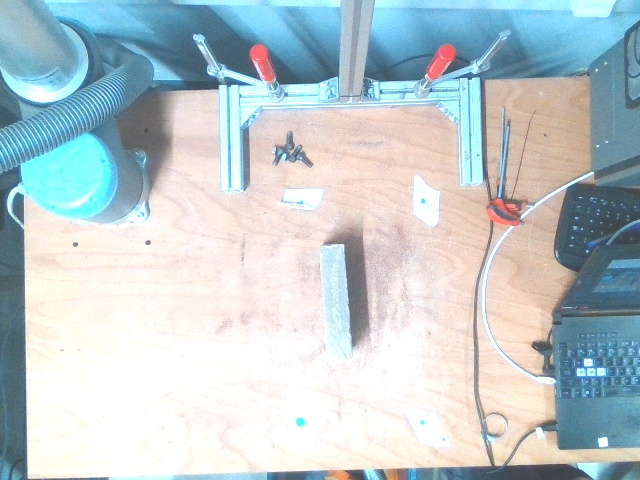brick-side: (319, 246, 353, 359)
